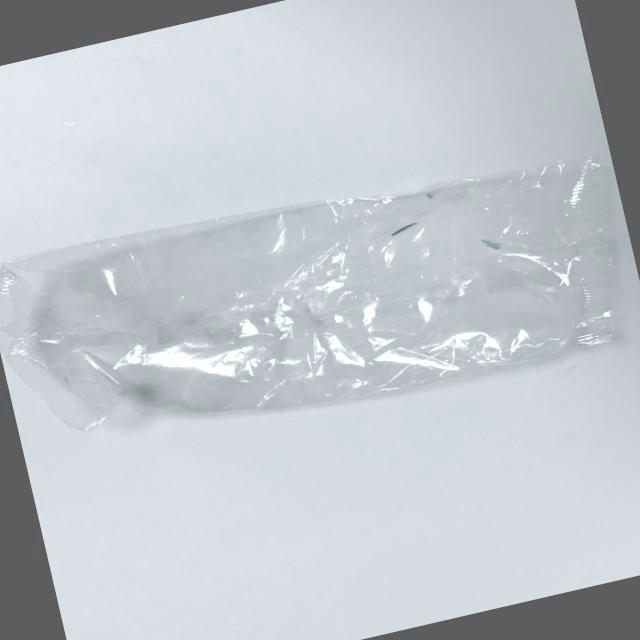plastic: (0, 91, 640, 492)
